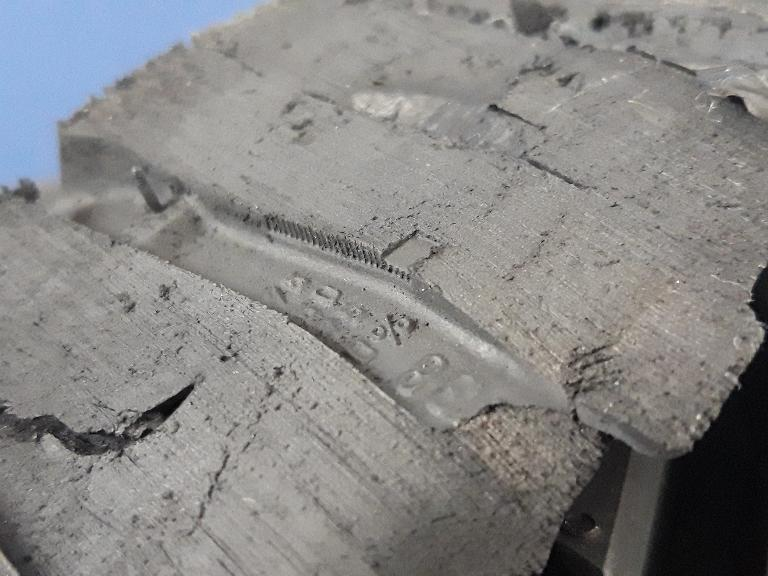temoin:25: (340, 210, 460, 300)
